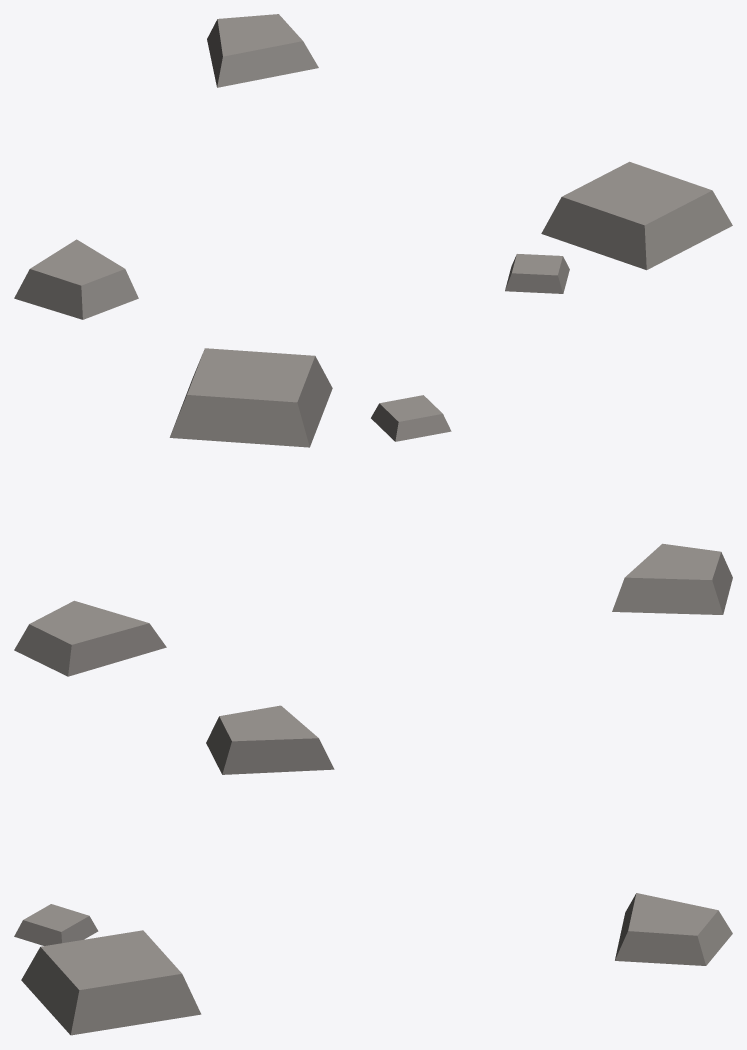
Rendered from SD_Prop_Rubble_02.fbx.
3 views of the same model, one above another, from view 1: azimuth 30°, elevation 25°; view 2: azimuth 150°, elevation 25°; view 3: azimuth 270°, elevation 25° (orthographic). The views are drawn at different scales.
Visible parts, largest first — view 1: SD_Prop_Rubble_02; view 2: SD_Prop_Rubble_02; view 3: SD_Prop_Rubble_02.
Boxes of the visible parts, box(x1,y1,x2,y2) form: SD_Prop_Rubble_02: box(14, 14, 732, 319); SD_Prop_Rubble_02: box(14, 348, 732, 676); SD_Prop_Rubble_02: box(14, 705, 732, 1035).
Bounding box in the file's own units: 3.16 × 0.178 × 3.12.
